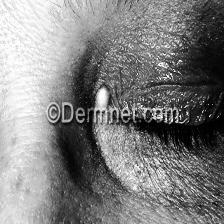Benign Marking or Mole: (94, 85, 111, 115)
